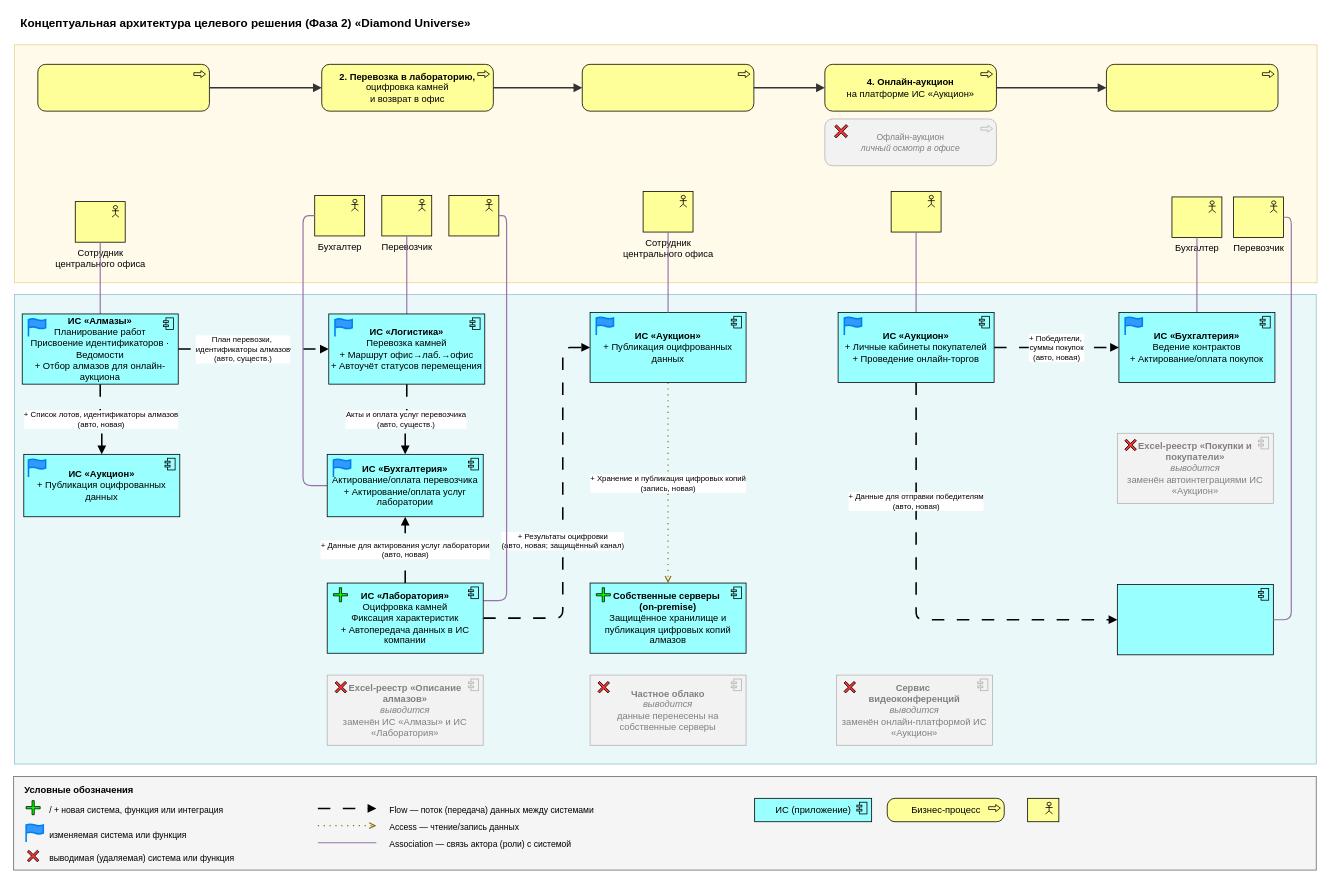
Some shapes in this 1331 by 884 pixel diagram are drawn without their labels. Each missing label, with the centre of its shape:
1. Отбор алмазов для онлайн-продажи в центральном офисе: the point at 123,87
3. Публикация данных для покупателей: the point at 667,87
5. Отправка камней победителям торгов из офиса: the point at 1192,87
Бизнес-роль: the point at 1043,810
ИС «Логистика» Перевозка камней победителям торгов: the point at 1195,619
Покупатель: the point at 915,211
Эксперт лаборатории: the point at 473,215
